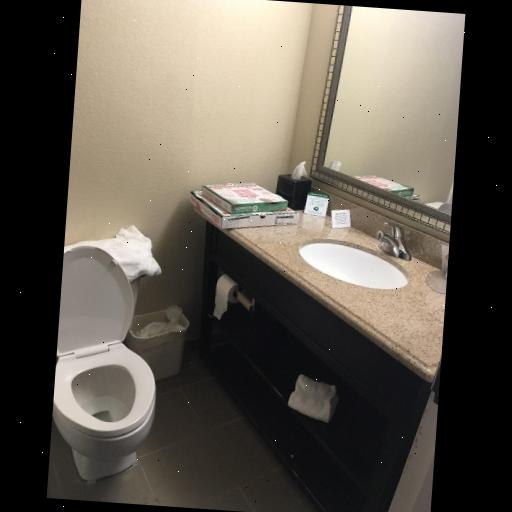clean mirror: (312, 4, 468, 218)
clean_toilet: (38, 218, 167, 494)
disorganized_towel: (97, 223, 160, 283)
messy_sink: (174, 176, 448, 377)
